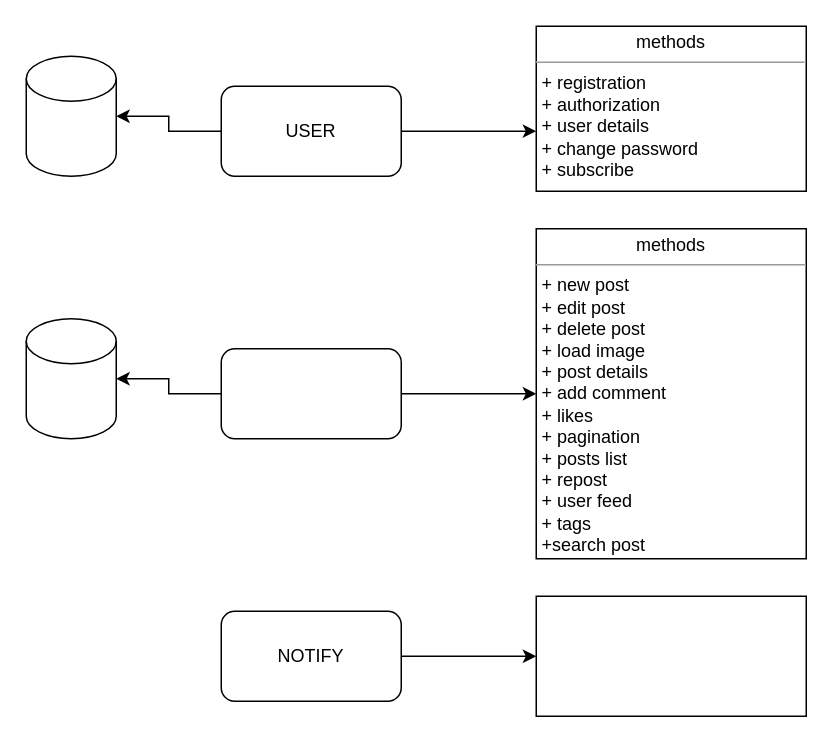
The diagram is 833 pixels wide and 743 high, and some of its shapes have lost their labels. Each missing label, with the centre of its shape:
"BLOG (post + comments)" belongs at point (310, 393).
"methods + sending notification + authorization" belongs at point (670, 655).
